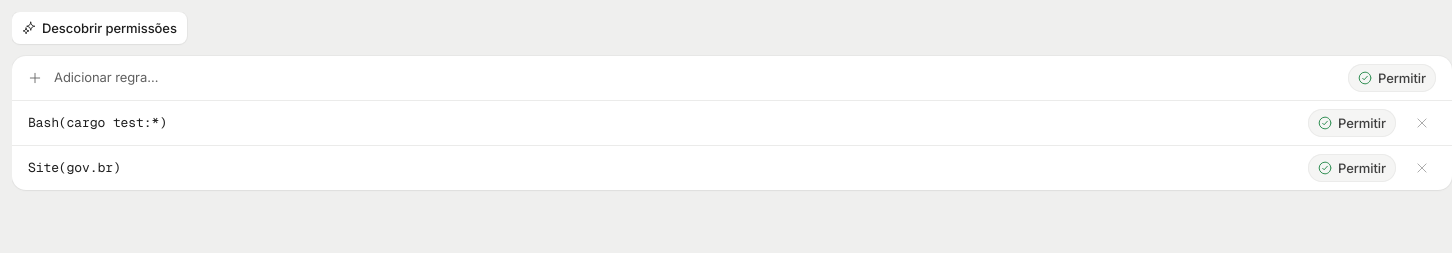
Scenario: aba de permissões › uma lista só: adiciona pelo campo do topo e remove pela linha
The width and height of the screenshot is (1452, 253).
Expected: the list named "Permissões" shows "Bash(cargo test:*)", [28,114,167,131]
Expected: the list named "Permissões" shows "Site(gov.br)", [28,159,121,176]
Type "Bash(git status)" into the field labelled "Adicionar regra…".
click(695, 78); type("Bash(git status)")  # box [54,69,1336,87]
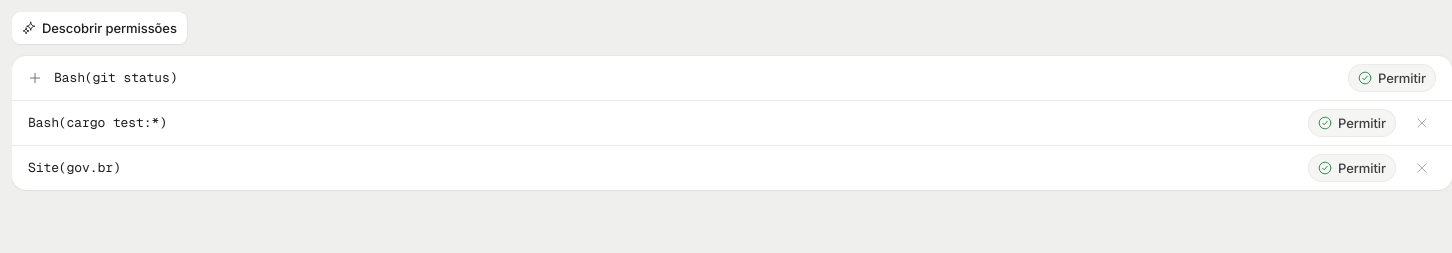
Submit the form from the field named "Adicionar regra…", box [54,69,1336,87]
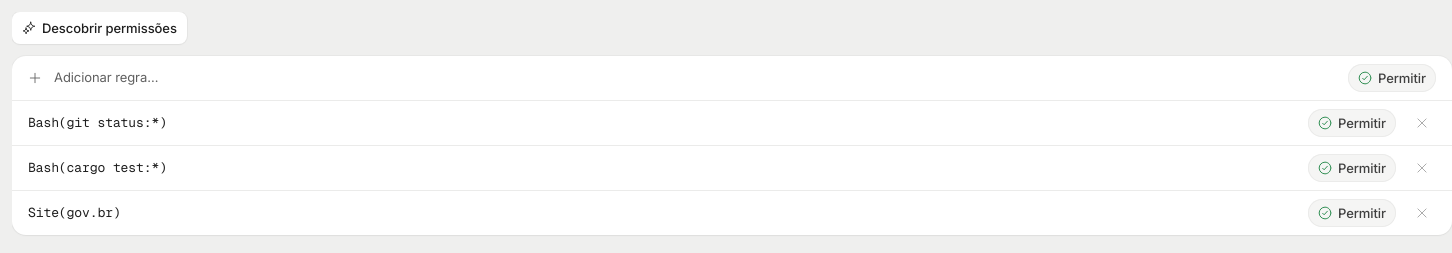
Now the list shows "Bash(git status:*)", box [28,114,167,131]
Click the button named "Remover Bash(cargo test:*)".
click(1422, 168)  # box [1408,154,1436,182]
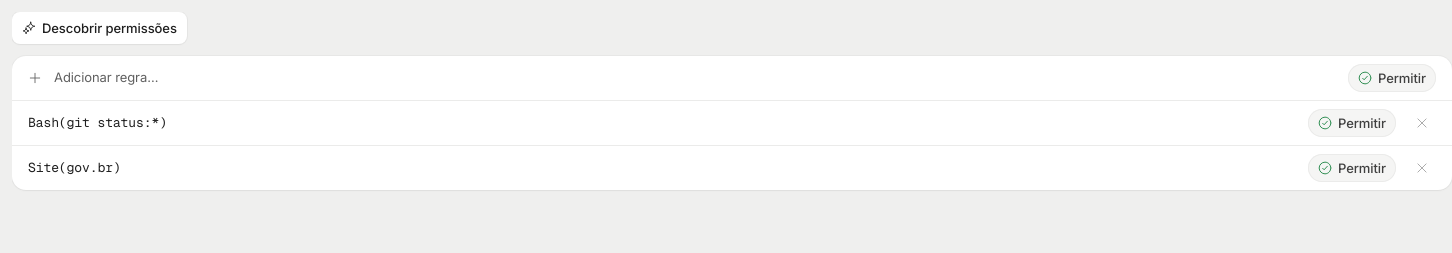
Now the text "cargo test" is gone
